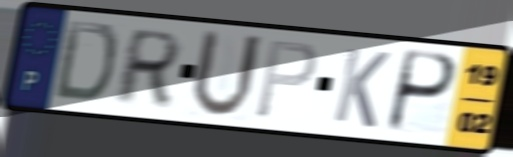D: (50, 17, 120, 106)
K: (330, 44, 393, 131)
P: (382, 48, 460, 136), (252, 38, 321, 122)
R: (110, 27, 186, 108)
U: (187, 26, 266, 122)
